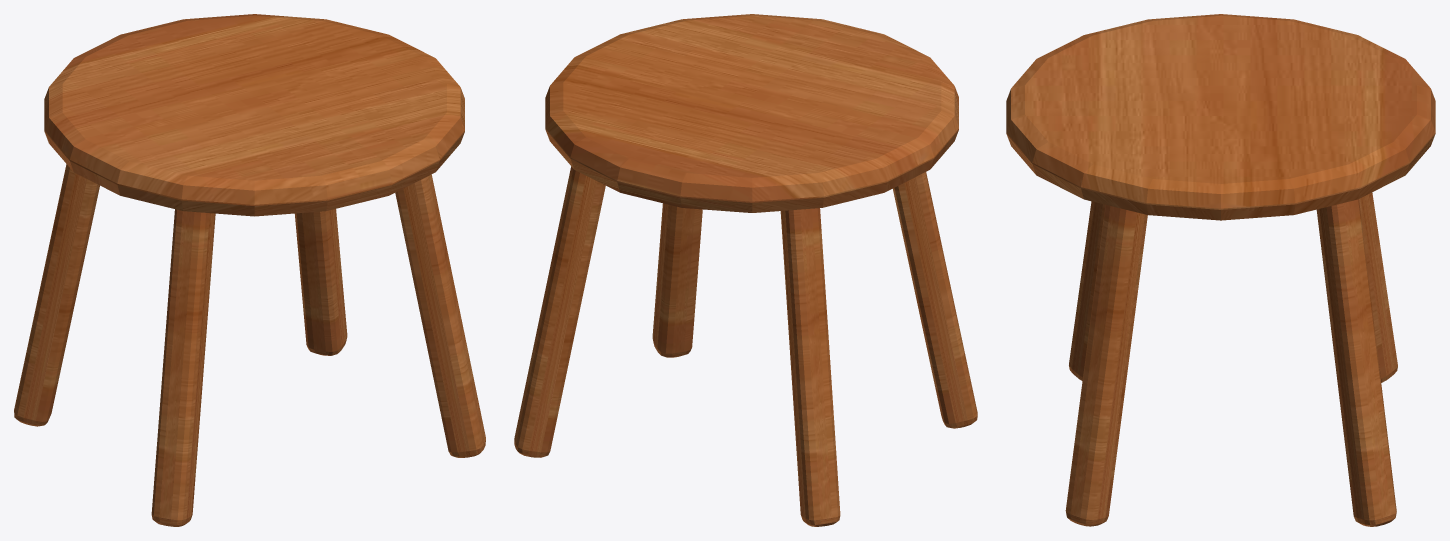
Rendered from Silla.FBX.
The picture shows the model from 3 angles, left to right: view 1: azimuth 30°, elevation 25°; view 2: azimuth 150°, elevation 25°; view 3: azimuth 270°, elevation 25°; orthographic projection. The views are drawn at different scales.
Parts seen in each view (by area): view 1: Cylinder001, Box001, Box002, Box003, Box004; view 2: Cylinder001, Box003, Box004, Box001, Box002; view 3: Cylinder001, Box004, Box002, Box003, Box001.
Boxes of the visible parts, x1,y1,x2,y2 form: Cylinder001: (44, 14, 464, 216); Box001: (151, 209, 215, 526); Box002: (395, 174, 485, 457); Box003: (14, 164, 99, 426); Box004: (295, 209, 347, 355); Cylinder001: (545, 14, 958, 212); Box003: (780, 208, 840, 526); Box004: (514, 166, 605, 457); Box001: (893, 172, 977, 428); Box002: (652, 203, 702, 357); Cylinder001: (1006, 14, 1435, 220); Box004: (1316, 199, 1396, 526); Box002: (1065, 204, 1147, 526); Box003: (1359, 192, 1397, 382); Box001: (1069, 201, 1105, 380).
Bounding box in the file's own units: 59.46 × 52.81 × 58.55.
